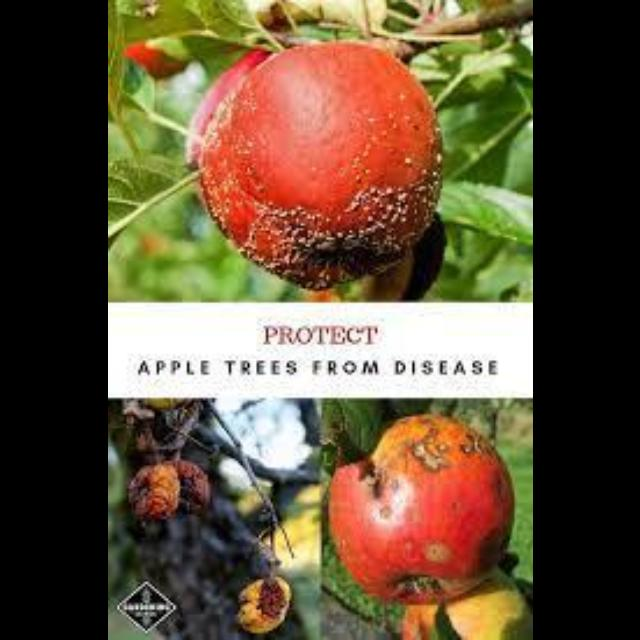apple: (200, 42, 440, 286), (328, 414, 512, 600)
